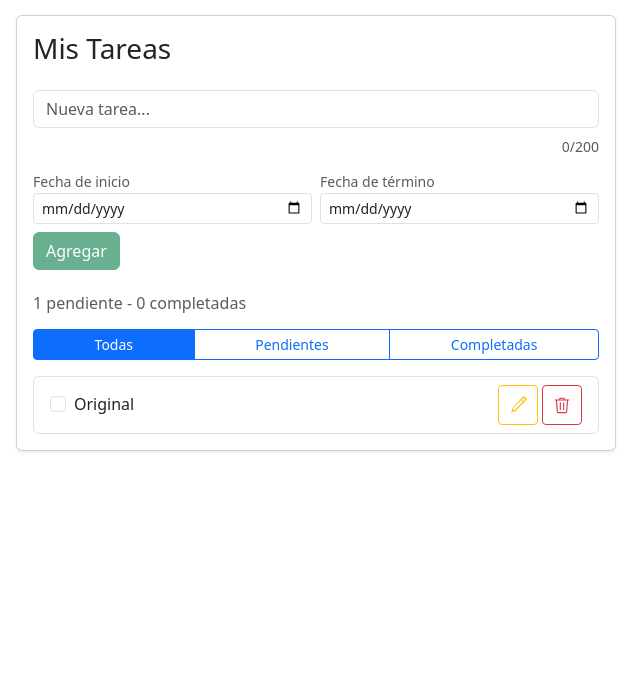
Test: restores the original task when editing fails
The width and height of the screenshot is (633, 687).
expect the text "Original" is shown: met, box 74,393 -> 134,415
Click the button named "Modificar: Original" at (518, 405), box 498,385 -> 538,425
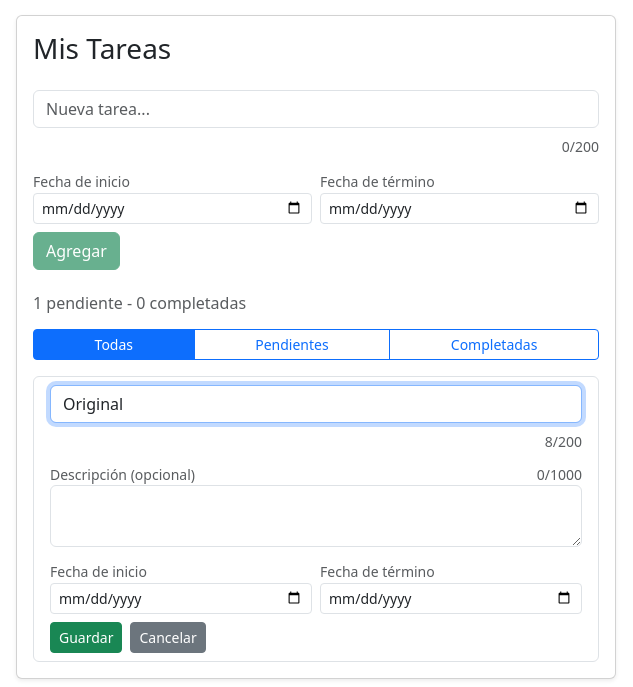
Replace the text in the field named "Título de la tarea" with "Cambio" at (316, 404), box 50,385 -> 582,423
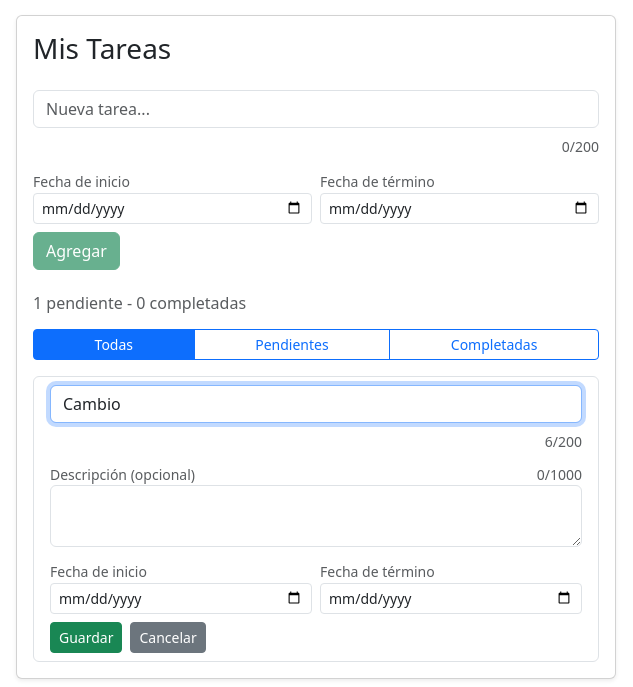
Click the button "Guardar" at (86, 637), box 50,622 -> 122,653
(page scrolled)
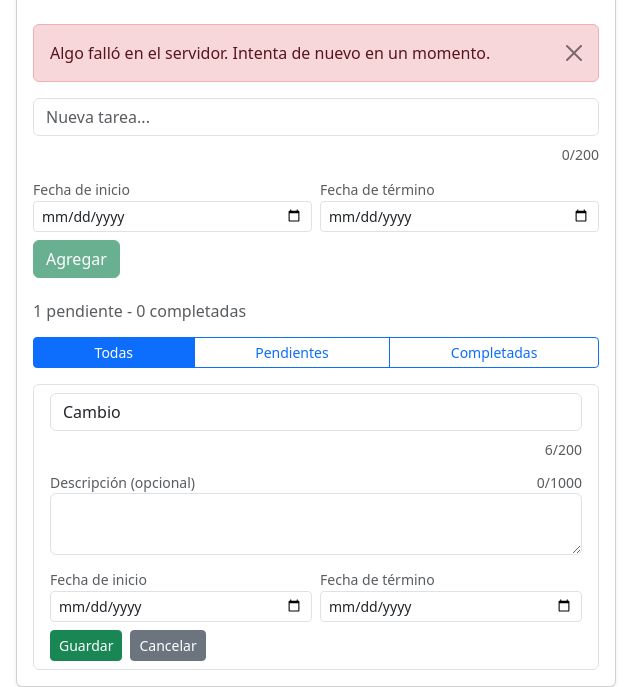
expect the text "Algo falló en el servidor. Intenta de nuevo en un momento." is shown: met, box 33,24 -> 599,82
Click the button "Cancelar" at (168, 645), box 130,630 -> 206,661
(page scrolled)
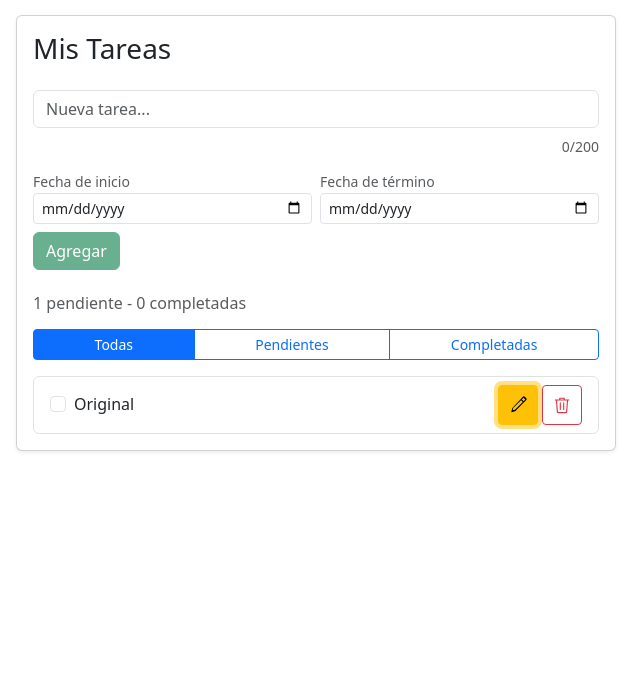
expect the text "Original" is shown: met, box 74,393 -> 134,415
